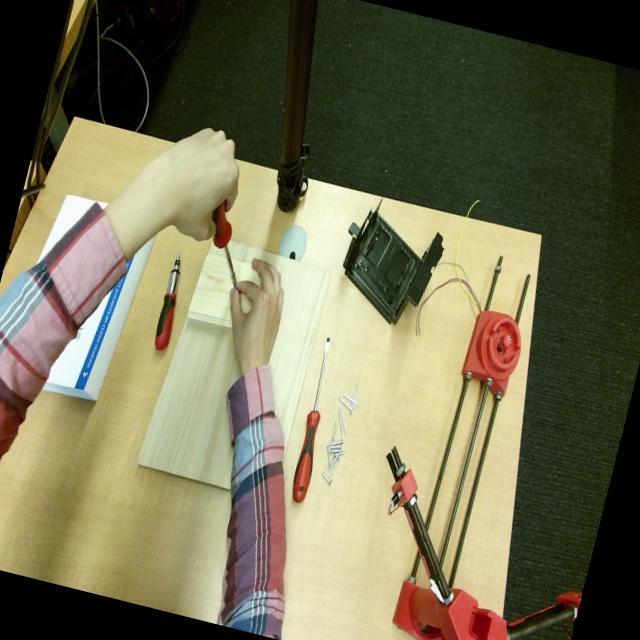screwdriver: (292, 338, 329, 503), (204, 213, 237, 287), (154, 254, 179, 351)
